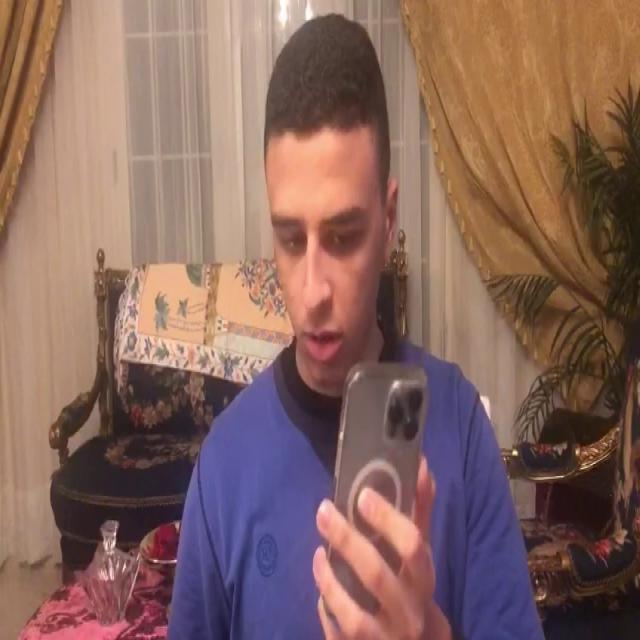phone: (320, 362, 428, 617)
